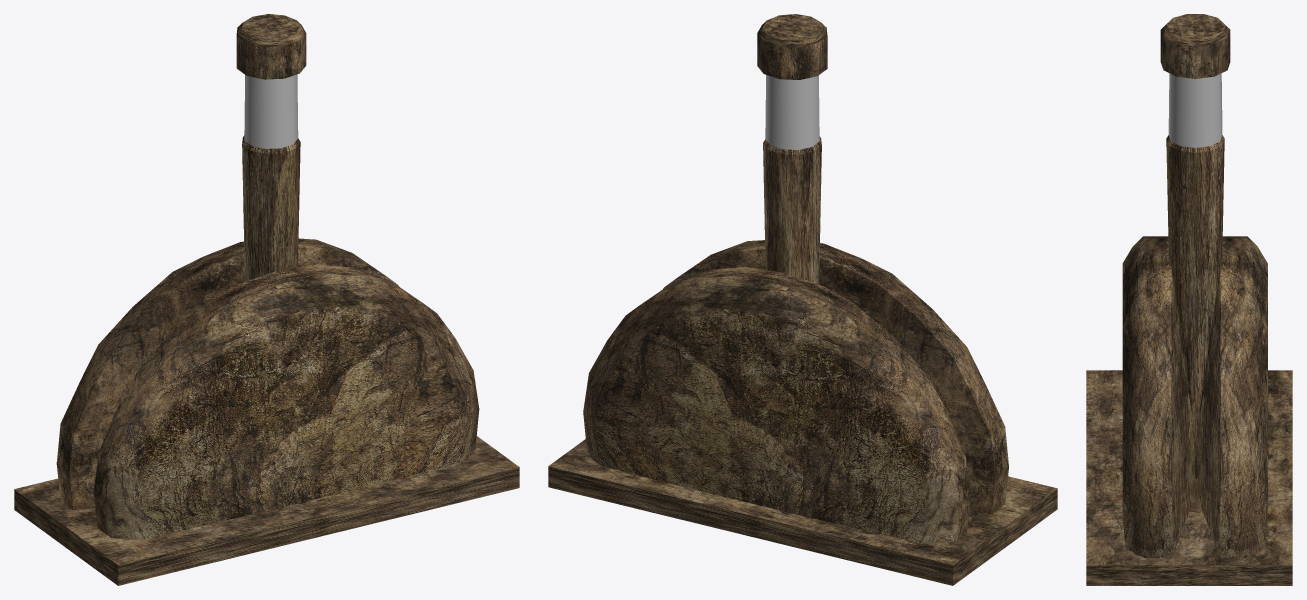
File: Leva01.FBX
3 views of the same model, side by side, from view 1: azimuth 30°, elevation 25°; view 2: azimuth 150°, elevation 25°; view 3: azimuth 270°, elevation 25° (orthographic).
Parts seen in each view (by area): view 1: Cylinder002, Leva; view 2: Cylinder002, Leva; view 3: Cylinder002, Leva.
Boxes of the visible parts, x1=… form: Cylinder002: x1=14, y1=238, x2=519, y2=585; Leva: x1=236, y1=14, x2=306, y2=281; Cylinder002: x1=548, y1=240, x2=1057, y2=585; Leva: x1=757, y1=14, x2=827, y2=284; Cylinder002: x1=1086, y1=236, x2=1292, y2=585; Leva: x1=1160, y1=14, x2=1230, y2=478.
Size of the model in its own units: 14.01 by 6.27 by 15.63.
